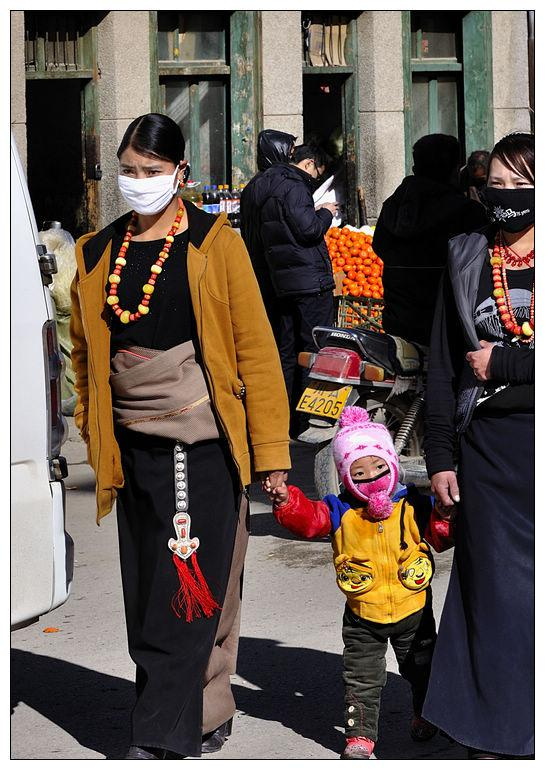OK: (112, 154, 176, 218), (490, 170, 542, 232), (349, 460, 397, 497)
